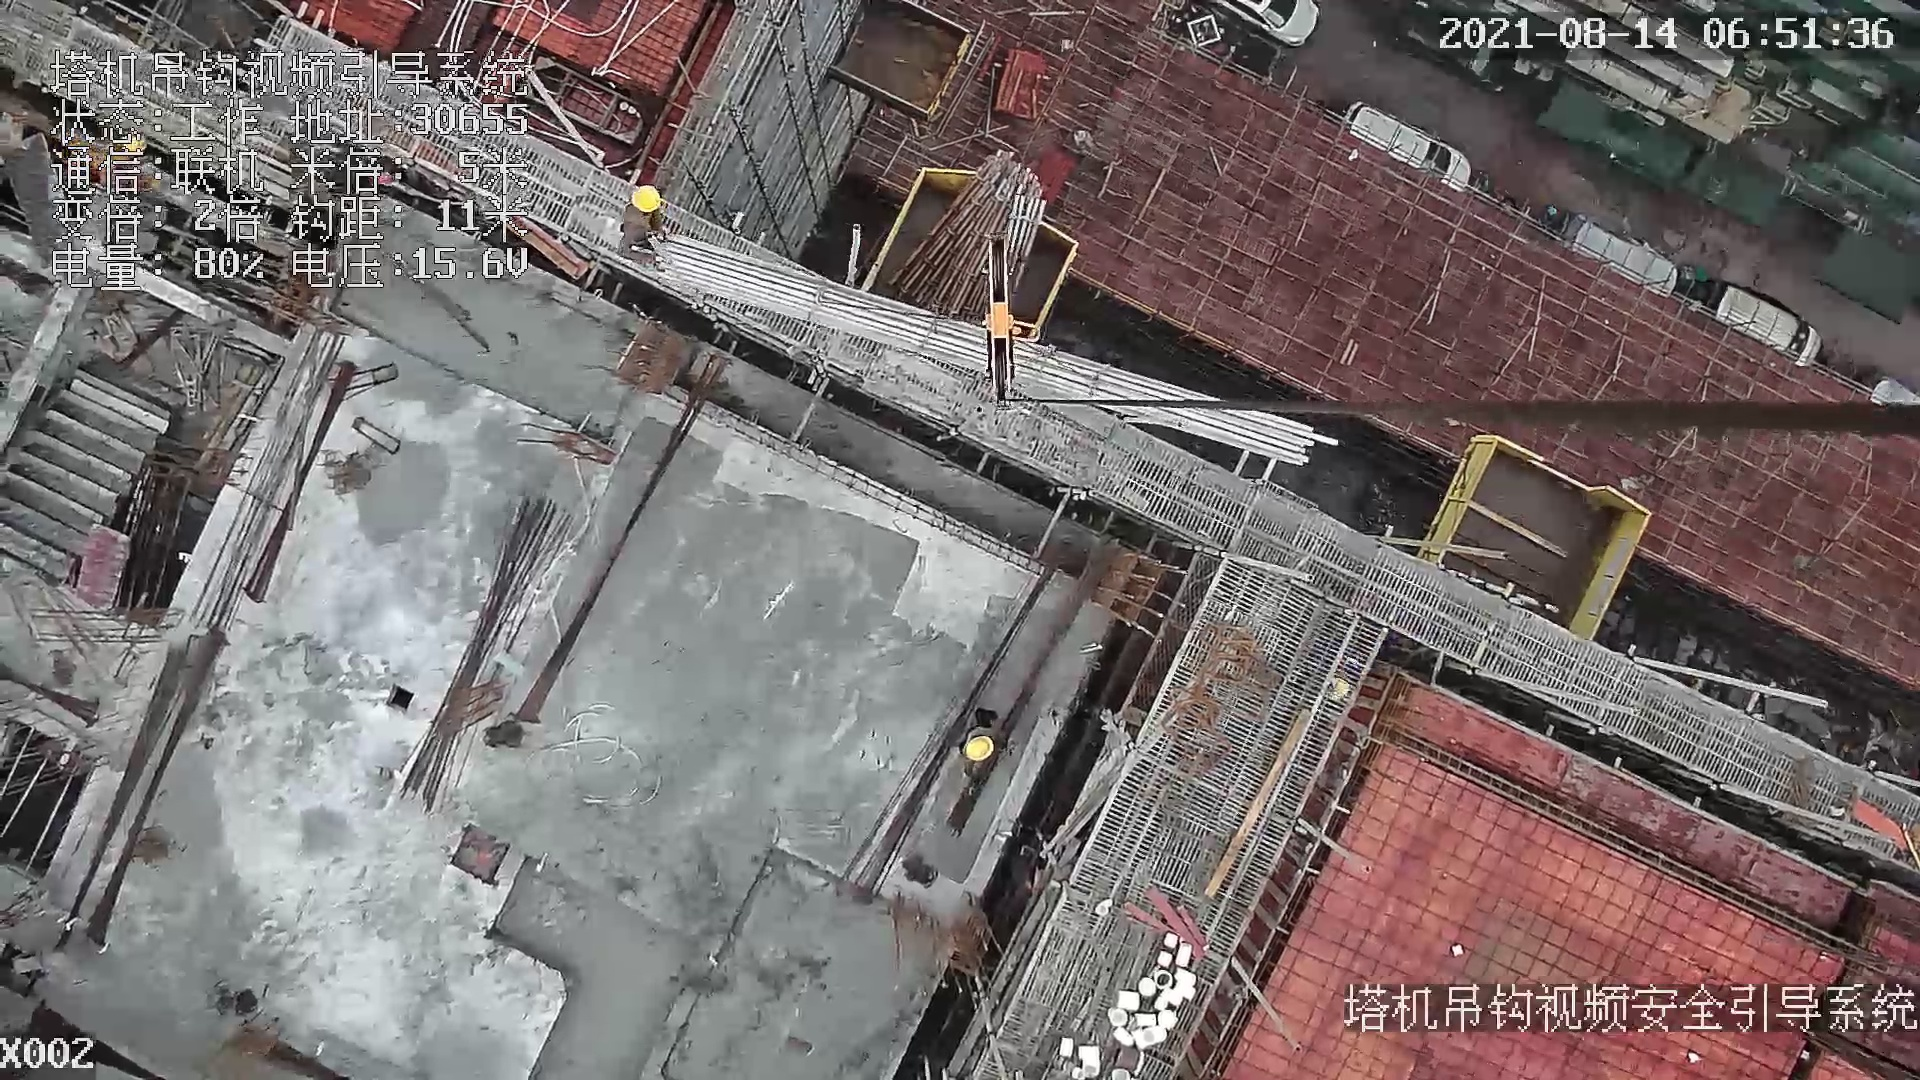helmet: (630, 182, 664, 214), (962, 737, 996, 762)
hook: (973, 232, 1047, 413)
person: (614, 181, 668, 268), (958, 709, 1012, 790)
rebar: (664, 234, 1344, 469), (400, 495, 574, 812)
scaffold: (892, 149, 1048, 320)
